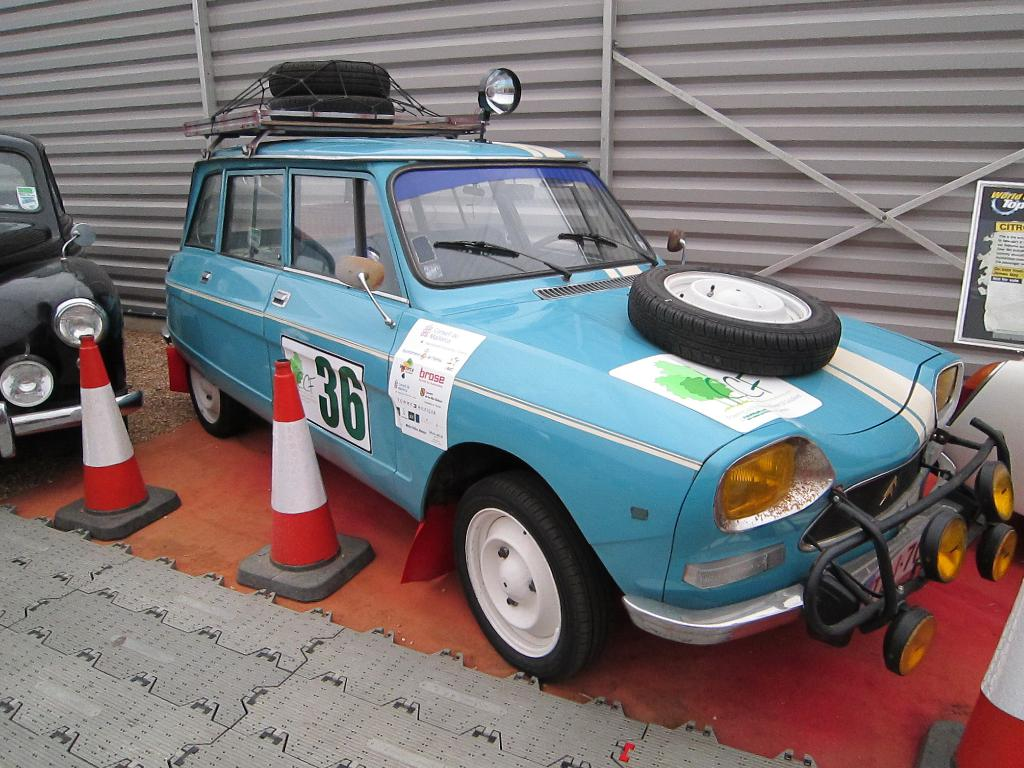cars: (159, 54, 1021, 683), (0, 126, 148, 457)
